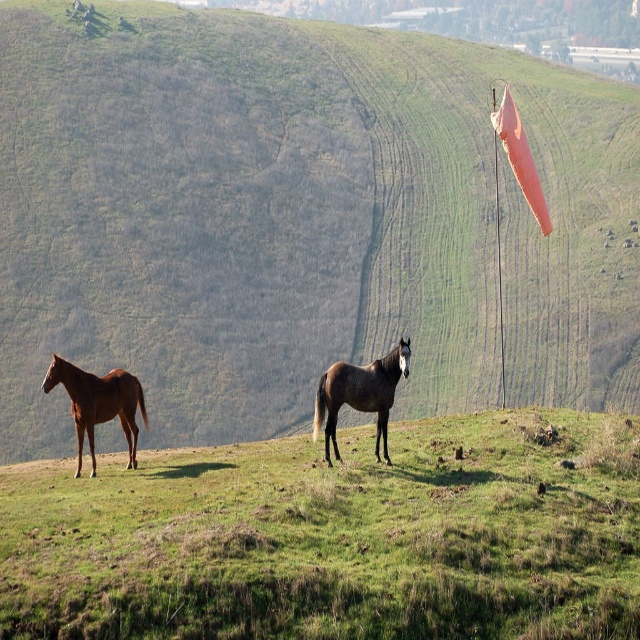Horse: (39, 353, 151, 482), (310, 335, 413, 468)
